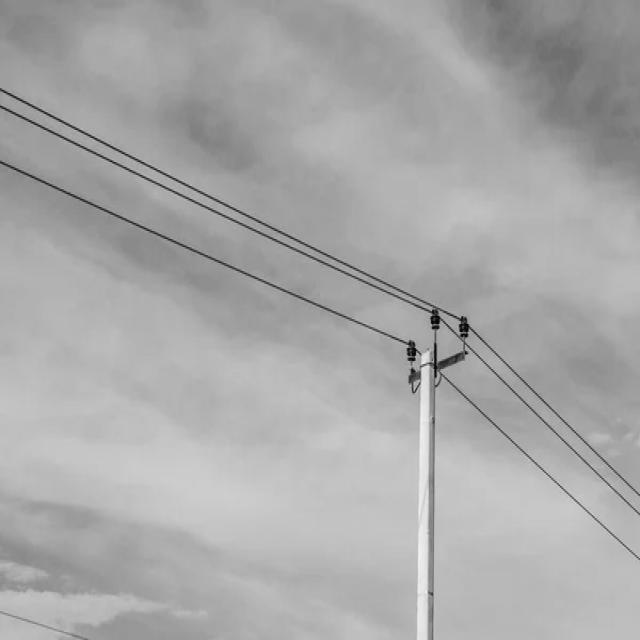Pole: (418, 349, 436, 640)
